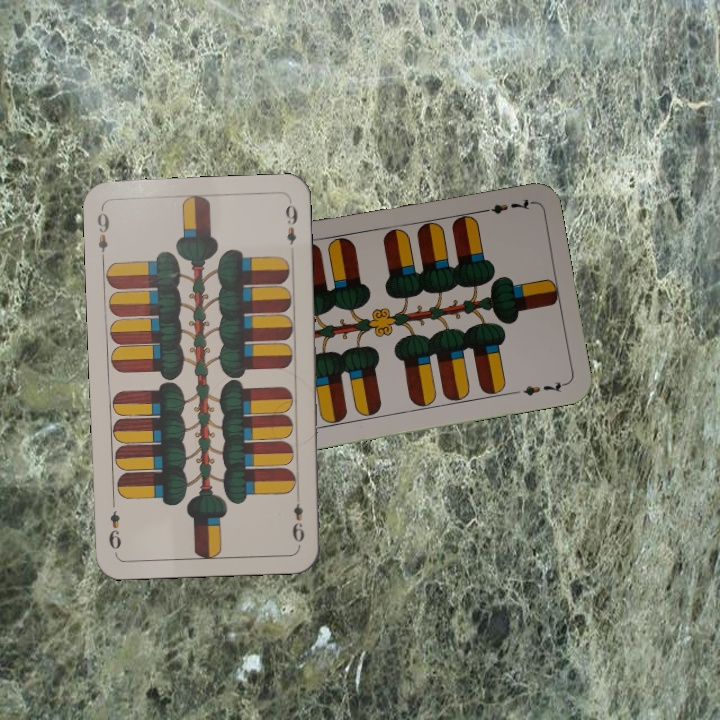E7: (475, 195, 534, 217)
E9: (93, 205, 112, 264), (288, 499, 307, 544)
